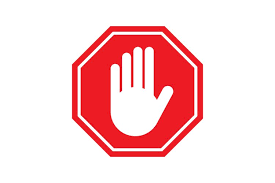SS: (70, 24, 204, 162)
